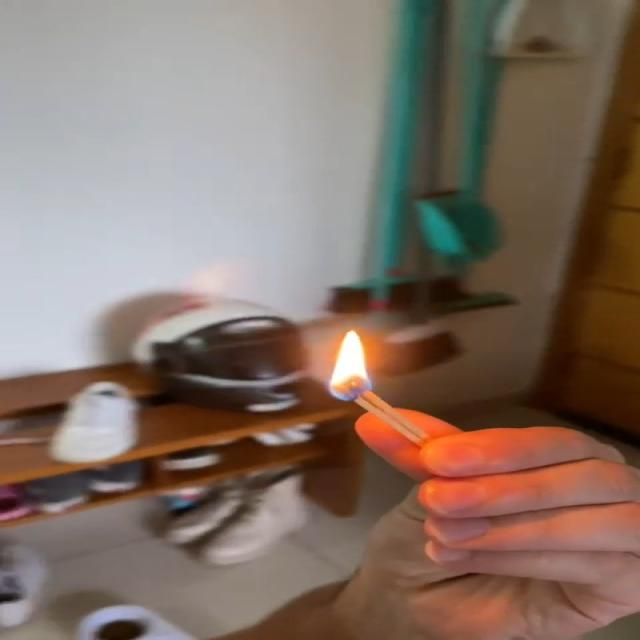fogo-ypXI: (326, 328, 373, 402)
